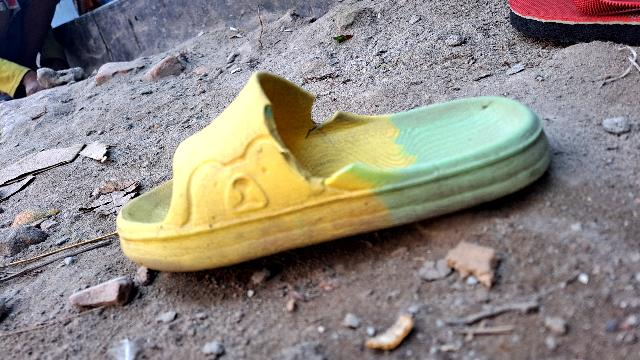sandal: (84, 20, 568, 284)
